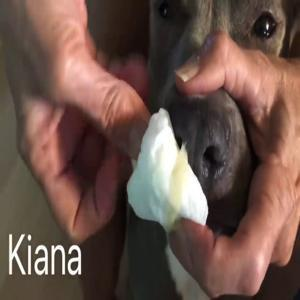nasal_discharge: (164, 118, 203, 192)
